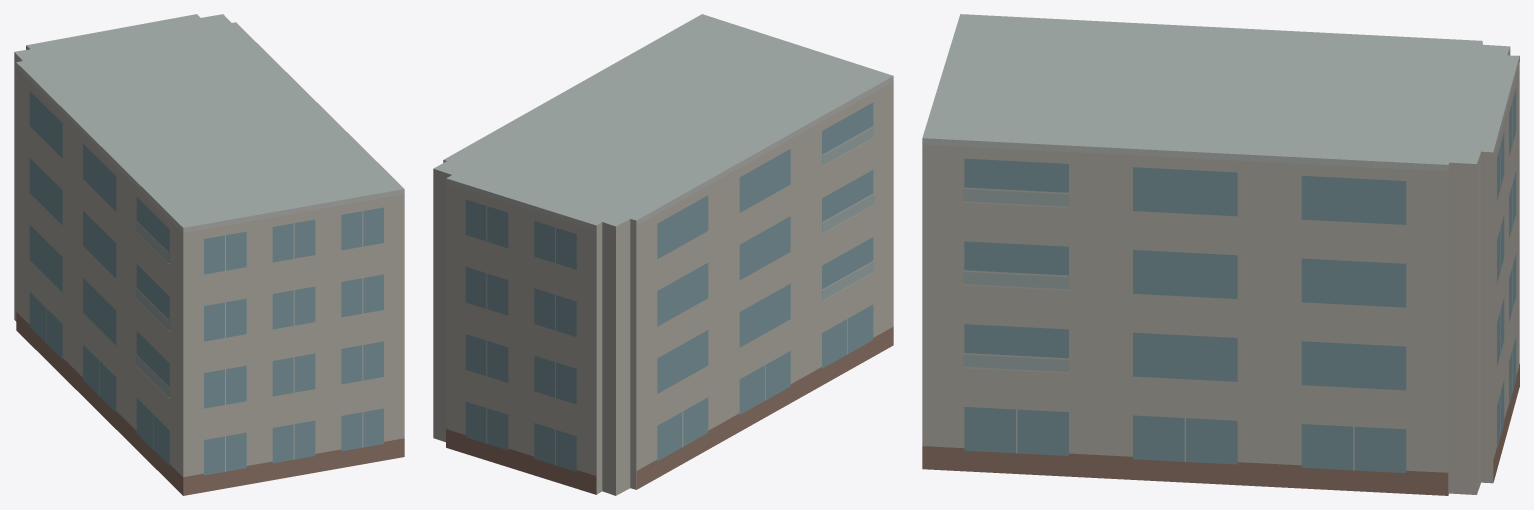
Rendered from survey-upis-32684123.glb.
3 renders of one model, left to right at view 1: azimuth 30°, elevation 25°; view 2: azimuth 150°, elevation 25°; view 3: azimuth 270°, elevation 25°, orthographic. The views are drawn at different scales.
Parts seen in each view (by area): view 1: survey-upis-32684123.tmp; view 2: survey-upis-32684123.tmp; view 3: survey-upis-32684123.tmp.
Part boxes in pixels (left/top/right/bottom): survey-upis-32684123.tmp: left=14, top=14, right=404, bottom=495; survey-upis-32684123.tmp: left=433, top=14, right=893, bottom=495; survey-upis-32684123.tmp: left=922, top=14, right=1519, bottom=495.
Bounding box in the file's own units: 12.23 × 12.5 × 20.46.
